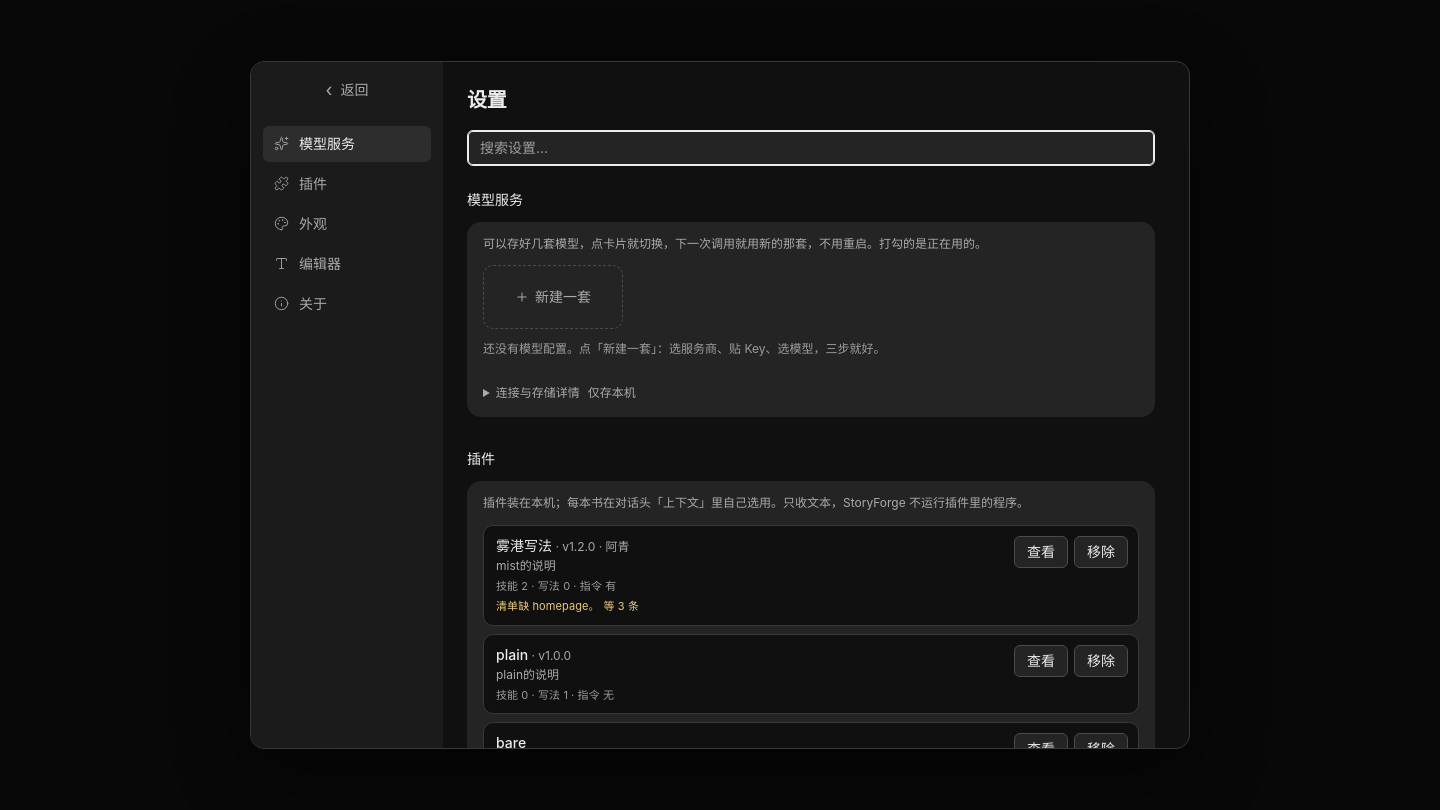
Test: 已装插件一张卡：名字回退、版本作者、计数照写 0、问题只显示第一条加「等 N 条」
Expected: the element showing "雾港写法 · v1.2.0 · 阿青" is shown, 496,537 -> 630,554
Expected: the text "技能 2 · 写法 0 · 指令 有" is shown, 496,579 -> 616,593
Click the button "查看" in the row of "v1.2.0 · 阿青" at coordinates (1041, 552), box 1014,536 -> 1068,568
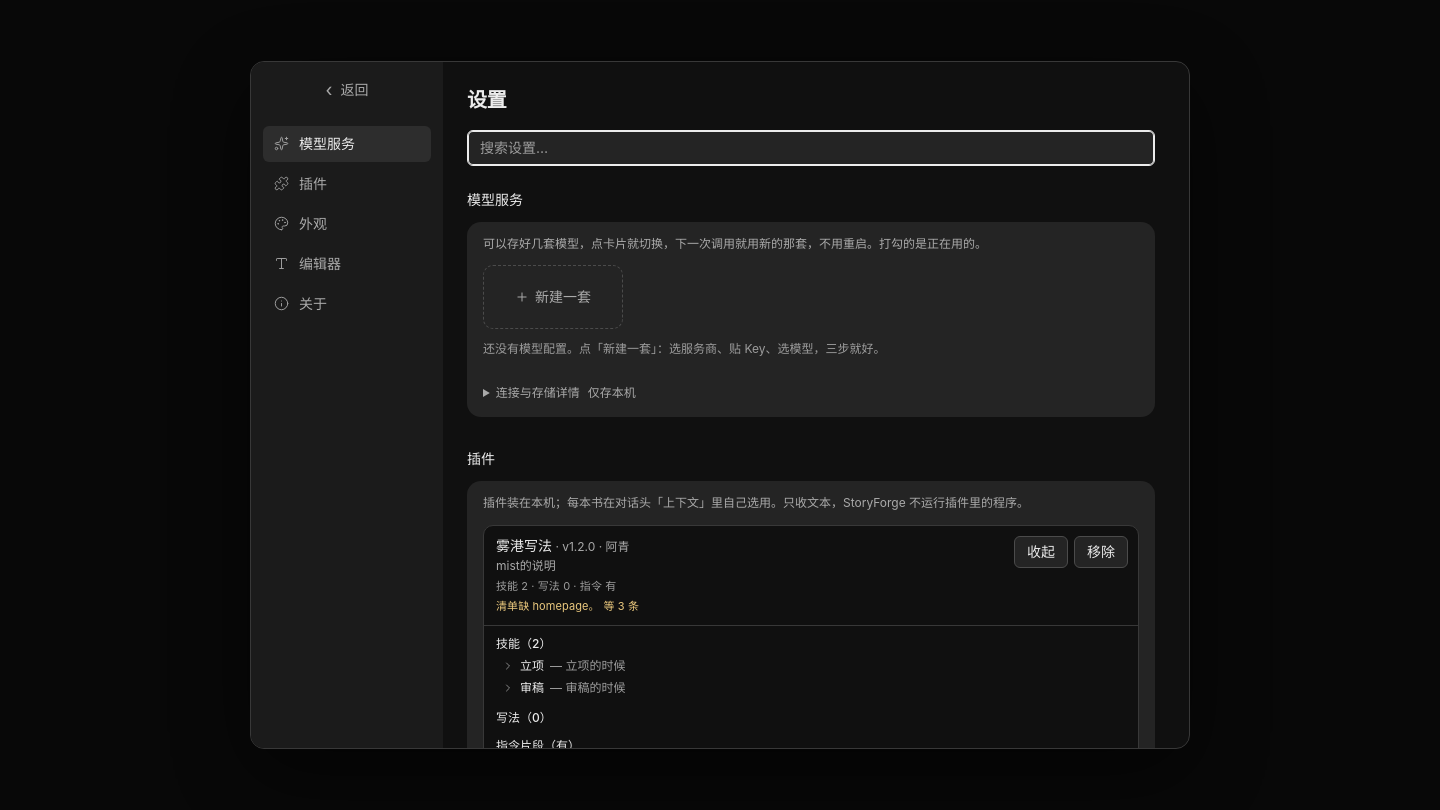
Result: the button "收起" is shown at 1014,536 -> 1068,568
